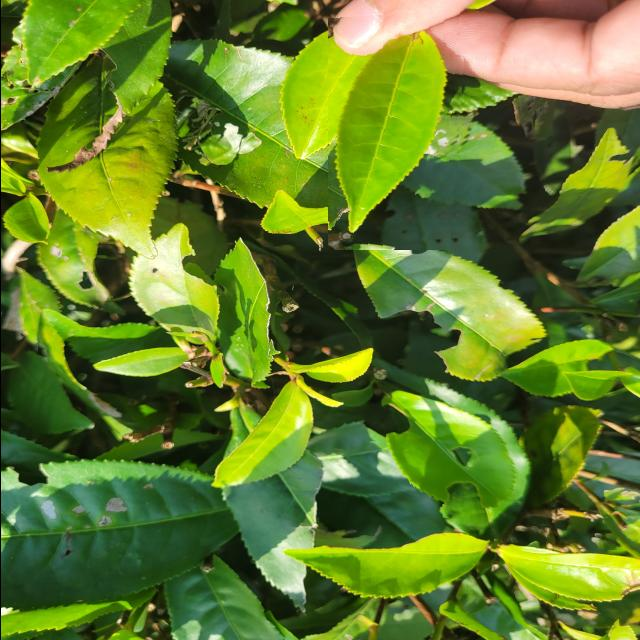Catagory A(1-2 days): (327, 9, 467, 250)
